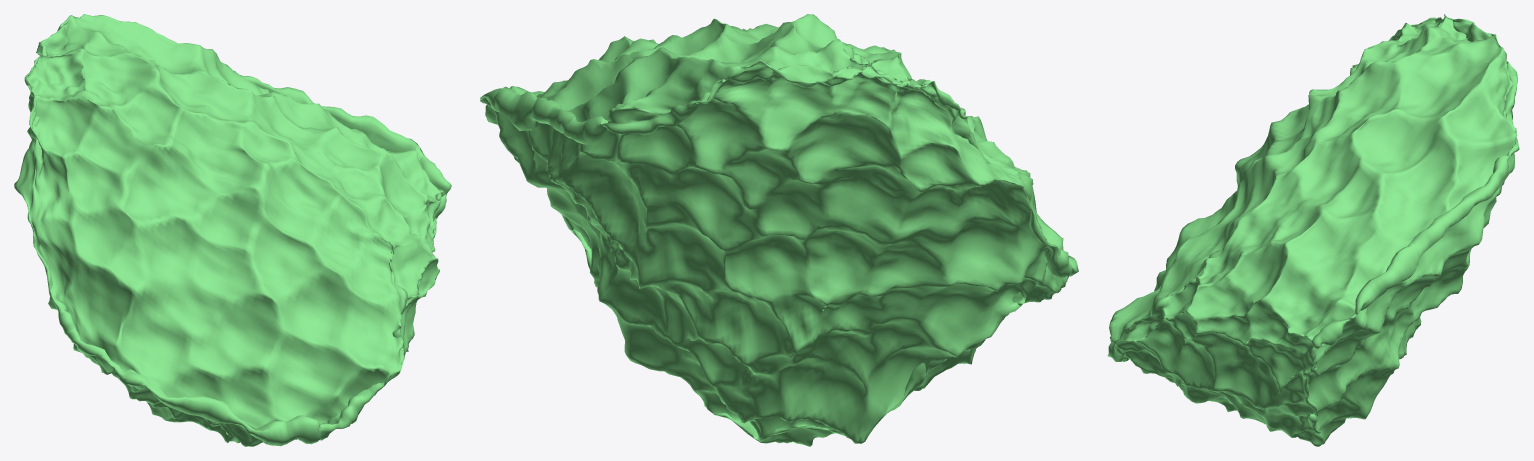
Rendered from meteor2.glb.
3 renders of one model, left to right at view 1: azimuth 30°, elevation 25°; view 2: azimuth 150°, elevation 25°; view 3: azimuth 270°, elevation 25°, orthographic. The views are drawn at different scales.
Visible parts, largest first — view 1: meteor_2; view 2: meteor_2; view 3: meteor_2.
Boxes of the visible parts, x1,y1,x2,y2 form: meteor_2: (14, 14, 451, 446); meteor_2: (480, 14, 1078, 446); meteor_2: (1107, 14, 1519, 446).
Size of the model in its own units: 6.07 by 5.28 by 5.38.
